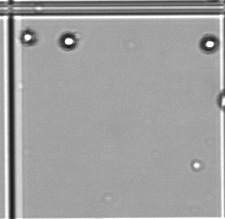Living Cell: (57, 32, 77, 50), (200, 33, 218, 52), (20, 30, 33, 44)
